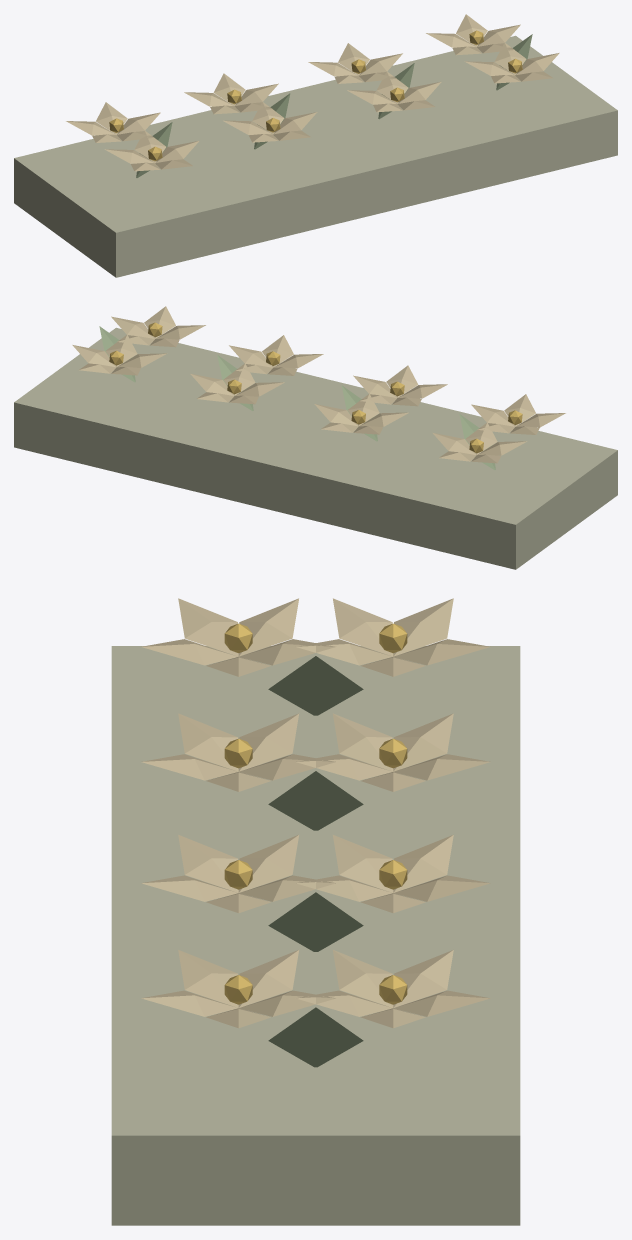
The model's file is map-exclusive-v3__champion_14.glb.
3 views of the same model, one above another, from view 1: azimuth 30°, elevation 25°; view 2: azimuth 150°, elevation 25°; view 3: azimuth 270°, elevation 25° (orthographic). The views are drawn at different scales.
Parts seen in each view (by area): view 1: champion_14; view 2: champion_14; view 3: champion_14.
Part boxes in pixels (x1,y1,x2,y2): champion_14: (14, 14, 617, 277); champion_14: (14, 306, 617, 569); champion_14: (111, 598, 520, 1225).
Bounding box in the file's own units: 3.15 × 0.5551 × 1.11.
